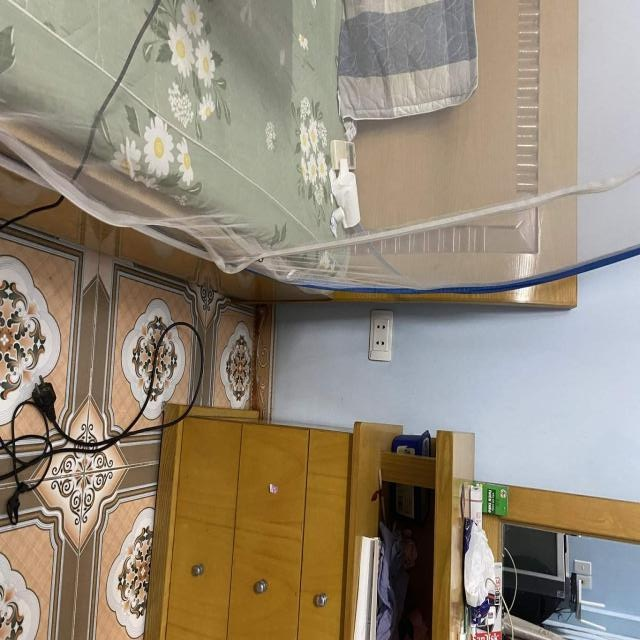outlet: (369, 310, 394, 362)
